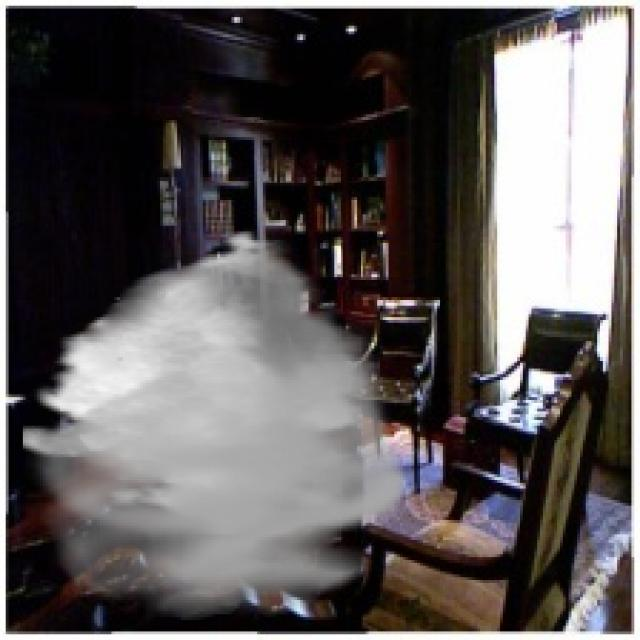smoke: (23, 229, 414, 620)
